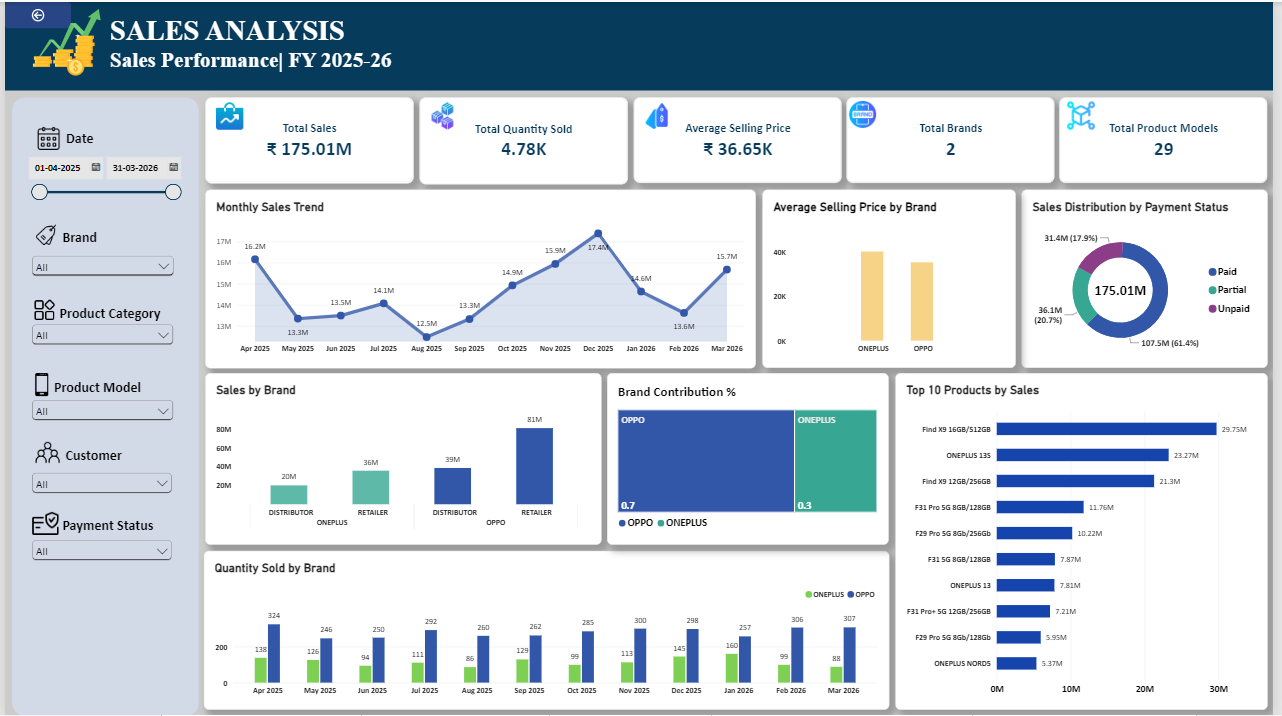

The dashboard page shown, as its layout file describes it:
{"tool":"powerbi","page":{"name":"Sales Analysis","canvas":[1920,1080],"ordinal":2},"visuals":[{"type":"shape","box":[9.9,143.7,283.1,936.6],"z":0},{"type":"shape","box":[0,0,1920,134],"z":1000},{"type":"actionButton","box":[0,0,100,40],"z":2000},{"type":"cardVisual","fields":{"Data":["Customers.Total Sales"]},"box":[302.8,143.7,315.5,131],"z":3000},{"type":"cardVisual","fields":{"Data":["Customers.Total Quantity Sold"]},"box":[628.2,143.7,315.5,132.4],"z":4000},{"type":"cardVisual","fields":{"Data":["Customers.Average Selling Price"]},"box":[951.4,144.9,315,130],"z":5000},{"type":"cardVisual","fields":{"Data":["Customers.Total Brands"]},"box":[1273.8,144.9,315,130],"z":6000},{"type":"cardVisual","fields":{"Data":["Customers.Total Product Models"]},"box":[1596.3,144.9,315,130],"z":7000},{"type":"lineChart","title":"Monthly Sales Trend","fields":{"Category":["DateTable.FY Month"],"Y":["Customers.Total Sales"]},"box":[302.5,283.8,833.3,270.4],"z":8000},{"type":"clusteredColumnChart","title":"Sales by Brand","fields":{"Category":["Products.Brand","Customers.Customer_Type"],"Y":["Customers.Total Sales"]},"box":[302.5,561.2,600,260],"z":9000},{"type":"donutChart","title":"Sales Distribution by Payment Status","fields":{"Category":["Sales_Invoices.Payment_Status"],"Y":["Customers.Total Sales"]},"box":[1538.8,283.8,372.5,270],"z":10000},{"type":"slicer","title":"Date","fields":{"Values":["DateTable.Date"]},"box":[8,226,282,94],"z":11000},{"type":"slicer","title":"Brand","fields":{"Values":["Products.Brand"]},"box":[36.9,378.4,224,40],"z":12000},{"type":"image","box":[38.8,335,47.7,35.1],"z":13000},{"type":"textbox","box":[85.9,342.4,62.6,27.3],"z":14000},{"type":"image","box":[37.5,186.2,56,40],"z":15000},{"type":"textbox","box":[82.5,193.8,65,32.5],"z":16000},{"type":"slicer","title":"Brand","fields":{"Values":["Products.Category"]},"box":[35.1,483.8,223.8,47.6],"z":17000},{"type":"image","box":[35.1,449.5,46.8,34.2],"z":18000},{"type":"image","box":[33.3,561.3,44.1,35.1],"z":19000},{"type":"image","box":[42.5,663.8,44.1,36.9],"z":20000},{"type":"image","box":[30,768.8,62.5,40],"z":21000},{"type":"textbox","box":[82,456.8,164,27],"z":22000},{"type":"slicer","title":"Brand","fields":{"Values":["Products.Product_Model"]},"box":[35.1,598.2,223.4,42.3],"z":23000},{"type":"textbox","box":[73.9,569.4,136,27],"z":24000},{"type":"slicer","title":"Brand","fields":{"Values":["Customers.Customer_Name"]},"box":[36.9,707.2,221.6,42.3],"z":25000},{"type":"textbox","box":[86.2,673.8,100,33.8],"z":26000},{"type":"slicer","title":"Brand","fields":{"Values":["Sales_Invoices.Payment_Status"]},"box":[35,808.8,221.6,42.3],"z":27000},{"type":"textbox","box":[86.9,780.8,143.4,28.3],"z":28000},{"type":"clusteredColumnChart","title":"Quantity Sold by Brand","fields":{"Y":["Customers.Total Quantity Sold"],"Series":["Products.Brand"],"Category":["DateTable.FY Month"]},"box":[301.2,830,1037.5,241],"z":29000},{"type":"columnChart","title":"Average Selling Price by Brand","fields":{"Category":["Products.Brand"],"Y":["Customers.Average Selling Price"]},"box":[1146.2,283.8,383.8,270],"z":30000},{"type":"treemap","title":"Brand Contribution % ","fields":{"Group":["Products.Brand"],"Values":["Customers.Brand Contribution %"]},"box":[911.2,561.2,426.2,260],"z":31000},{"type":"barChart","title":"Top 10 Products by Sales","fields":{"Category":["Products.Product_Model"],"Y":["Customers.Total Sales"]},"box":[1347.5,561.2,563.8,510],"z":32000},{"type":"image","box":[27,6.1,132.2,109.6],"z":33000},{"type":"image","box":[313.9,149.6,53,44.3],"z":34000},{"type":"image","box":[635.7,149.6,53,44.3],"z":35000},{"type":"image","box":[960,150.4,53,44.3],"z":36000},{"type":"textbox","box":[158.8,20,567.5,102.5],"z":37000},{"type":"image","box":[1273.8,148.8,48.8,43.8],"z":38000},{"type":"image","box":[1606.2,150,45,42.5],"z":39000}]}

Visuals, with their boxes in screenshot pixels (x1, y1, x2, y2), scaled from the page's 1920x1080 canvas onto the 1282x716 screenshot:
shape: select_region(7, 95, 196, 715)
shape: select_region(0, 0, 1281, 89)
actionButton: select_region(0, 0, 67, 27)
cardVisual - Customers.Total Sales: select_region(202, 95, 413, 182)
cardVisual - Customers.Total Quantity Sold: select_region(419, 95, 630, 183)
cardVisual - Customers.Average Selling Price: select_region(635, 96, 846, 182)
cardVisual - Customers.Total Brands: select_region(851, 96, 1061, 182)
cardVisual - Customers.Total Product Models: select_region(1066, 96, 1276, 182)
"Monthly Sales Trend" lineChart: select_region(202, 188, 758, 367)
"Sales by Brand" clusteredColumnChart: select_region(202, 372, 603, 544)
"Sales Distribution by Payment Status" donutChart: select_region(1027, 188, 1276, 367)
"Date" slicer: select_region(5, 150, 194, 212)
"Brand" slicer: select_region(25, 251, 174, 277)
image: select_region(26, 222, 58, 245)
textbox: select_region(57, 227, 99, 245)
image: select_region(25, 123, 62, 150)
textbox: select_region(55, 128, 98, 150)
"Brand" slicer: select_region(23, 321, 173, 352)
image: select_region(23, 298, 55, 321)
image: select_region(22, 372, 52, 395)
image: select_region(28, 440, 58, 465)
image: select_region(20, 510, 62, 536)
textbox: select_region(55, 303, 164, 321)
"Brand" slicer: select_region(23, 397, 173, 425)
textbox: select_region(49, 377, 140, 395)
"Brand" slicer: select_region(25, 469, 173, 497)
textbox: select_region(58, 447, 124, 469)
"Brand" slicer: select_region(23, 536, 171, 564)
textbox: select_region(58, 518, 154, 536)
"Quantity Sold by Brand" clusteredColumnChart: select_region(201, 550, 894, 710)
"Average Selling Price by Brand" columnChart: select_region(765, 188, 1022, 367)
"Brand Contribution % " treemap: select_region(608, 372, 893, 544)
"Top 10 Products by Sales" barChart: select_region(900, 372, 1276, 710)
image: select_region(18, 4, 106, 77)
image: select_region(210, 99, 245, 129)
image: select_region(424, 99, 460, 129)
image: select_region(641, 100, 676, 129)
textbox: select_region(106, 13, 485, 81)
image: select_region(851, 99, 883, 128)
image: select_region(1072, 99, 1103, 128)
